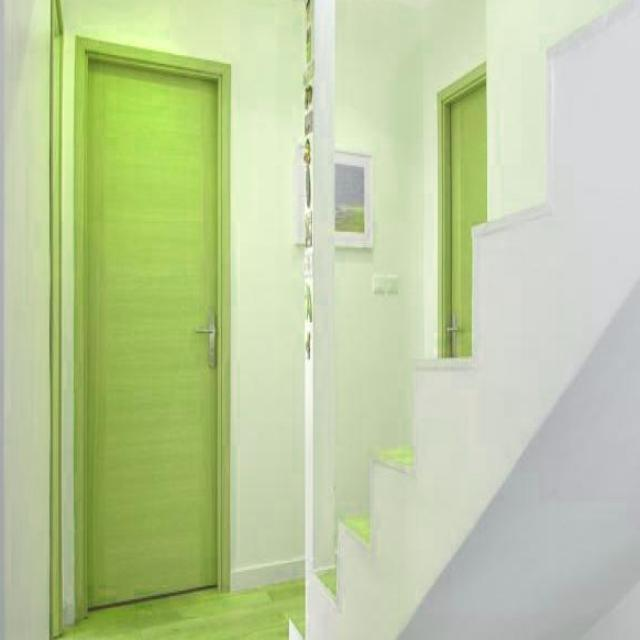door: (72, 36, 230, 614)
